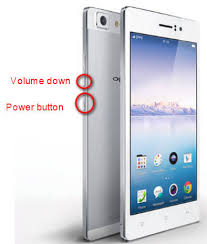oppo: (81, 4, 201, 242)
